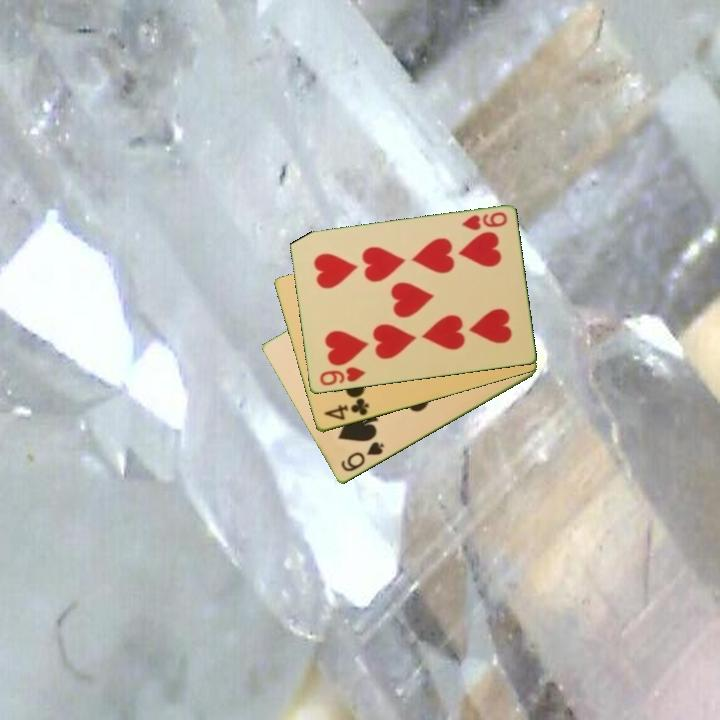4c: (320, 395, 372, 423)
6s: (337, 438, 387, 475)
9h: (316, 363, 368, 389), (458, 209, 510, 233)
